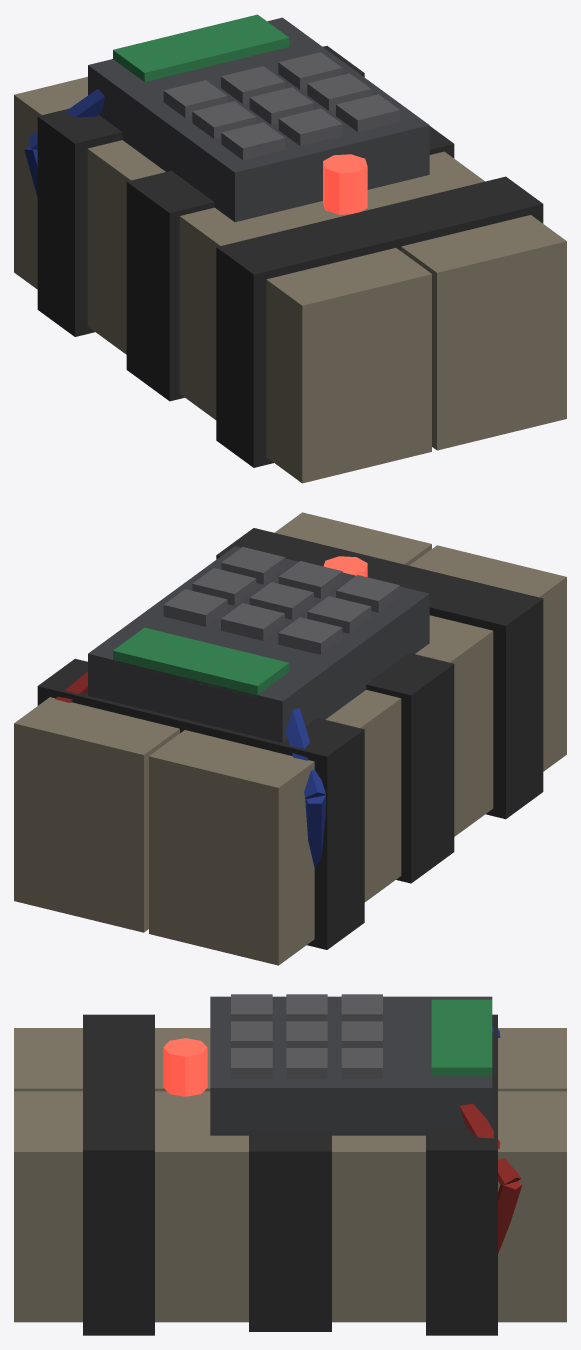
3 renders of one model, top to bottom at view 1: azimuth 30°, elevation 25°; view 2: azimuth 150°, elevation 25°; view 3: azimuth 270°, elevation 25°, orthographic. The views are drawn at different scales.
Parts seen in each view (by area): view 1: c4, led; view 2: c4, led; view 3: c4, led.
Boxes of the visible parts, <box> form: c4: <box>14,14,566,483</box>; led: <box>323,154,367,214</box>; c4: <box>14,512,566,965</box>; led: <box>323,556,367,577</box>; c4: <box>14,994,566,1335</box>; led: <box>163,1038,207,1096</box>.
Size of the model in its own units: 0.1192 by 0.0945 by 0.2.
